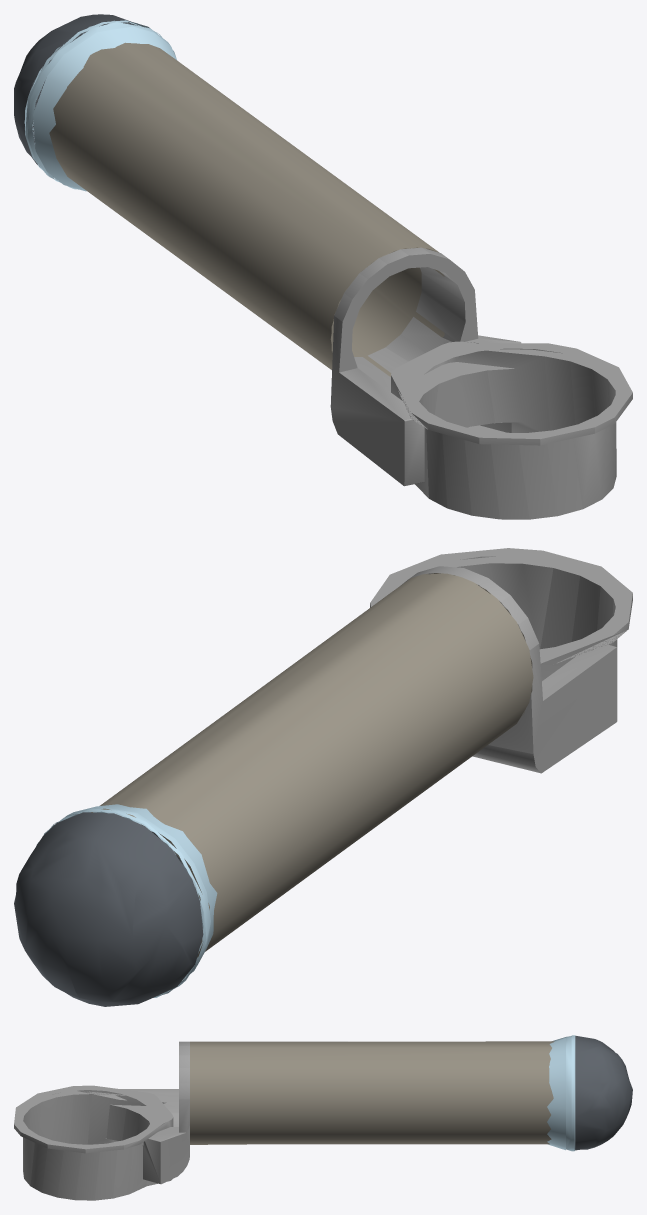
The model's file is LEFT_ELBOW_PITCH_LINK_298mm_LENGTH.obj.
The picture shows the model from 3 angles, top to bottom: view 1: azimuth 30°, elevation 25°; view 2: azimuth 150°, elevation 25°; view 3: azimuth 270°, elevation 25°; orthographic projection. The views are drawn at different scales.
Visible parts, largest first — view 1: LEFT_ELBOW_PITCH_LINK; view 2: LEFT_ELBOW_PITCH_LINK; view 3: LEFT_ELBOW_PITCH_LINK.
Boxes of the visible parts, x1,y1,x2,y2 form: LEFT_ELBOW_PITCH_LINK: (14, 14, 632, 519); LEFT_ELBOW_PITCH_LINK: (14, 548, 632, 1006); LEFT_ELBOW_PITCH_LINK: (14, 1035, 632, 1200).
Bounding box in the file's own units: 0.0882 × 0.0736 × 0.3402.
